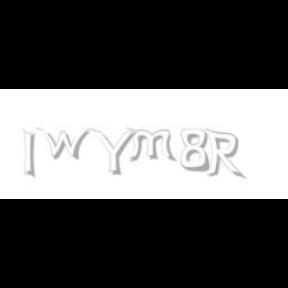8: (180, 128, 210, 172)
I: (24, 128, 36, 180)
R: (205, 128, 243, 180)
Y: (90, 128, 136, 176)
m: (126, 128, 178, 162)
w: (36, 128, 94, 160)
